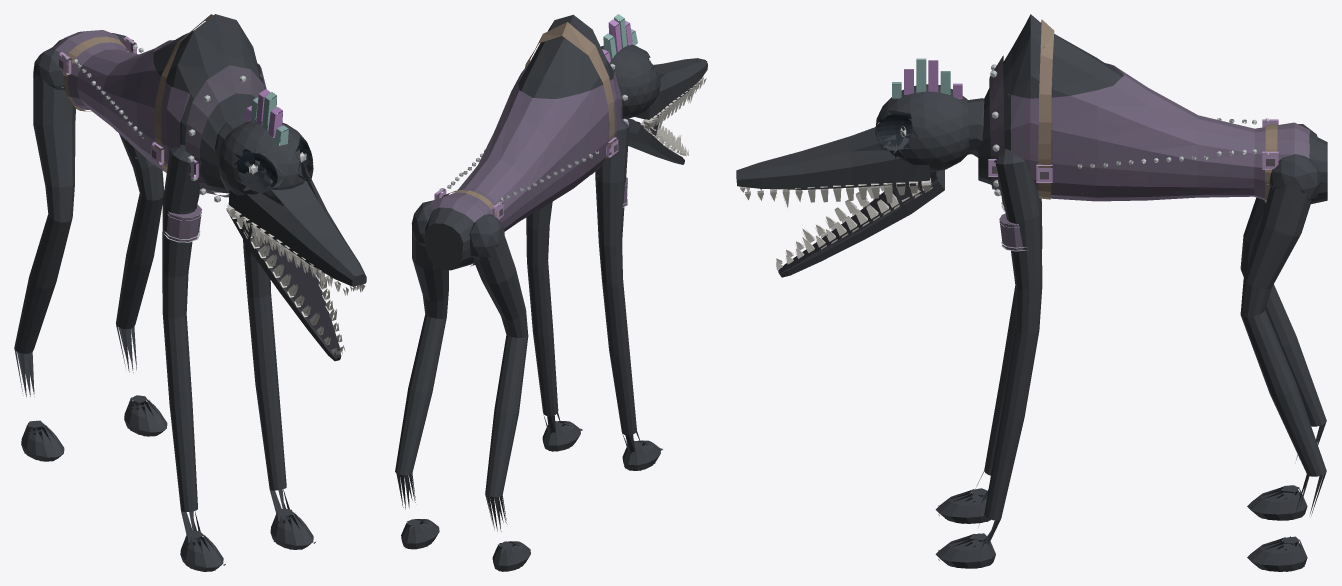
The model's file is LongmawPunk.glb.
3 views of the same model, side by side, from view 1: azimuth 30°, elevation 25°; view 2: azimuth 150°, elevation 25°; view 3: azimuth 270°, elevation 25° (orthographic). The views are drawn at different scales.
Parts seen in each view (by area): view 1: Body, Head, ArmR, LegR, ArmL, LegL; view 2: Body, LegR, ArmR, Head, LegL, ArmL; view 3: Body, Head, LegL, ArmL, LegR, ArmR.
Boxes of the visible parts, x1=… form: Body: x1=52, y1=14, x2=271, y2=202; Head: x1=214, y1=89, x2=366, y2=361; ArmR: x1=162, y1=144, x2=225, y2=571; LegR: x1=14, y1=47, x2=75, y2=461; ArmL: x1=243, y1=239, x2=315, y2=549; LegL: x1=112, y1=33, x2=167, y2=436; Body: x1=425, y1=14, x2=628, y2=270; LegR: x1=469, y1=214, x2=530, y2=571; ArmR: x1=595, y1=119, x2=662, y2=470; Head: x1=601, y1=14, x2=707, y2=164; LegL: x1=395, y1=200, x2=448, y2=549; ArmL: x1=526, y1=202, x2=582, y2=451; Body: x1=978, y1=14, x2=1327, y2=203; Head: x1=736, y1=58, x2=984, y2=277; LegL: x1=1240, y1=154, x2=1326, y2=571; ArmL: x1=935, y1=148, x2=1042, y2=568; LegR: x1=1240, y1=124, x2=1326, y2=520; ArmR: x1=935, y1=197, x2=1042, y2=523.
Size of the model in its own units: 1.9 by 6.89 by 7.03.
